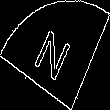N_SW: (32, 22, 78, 88)
